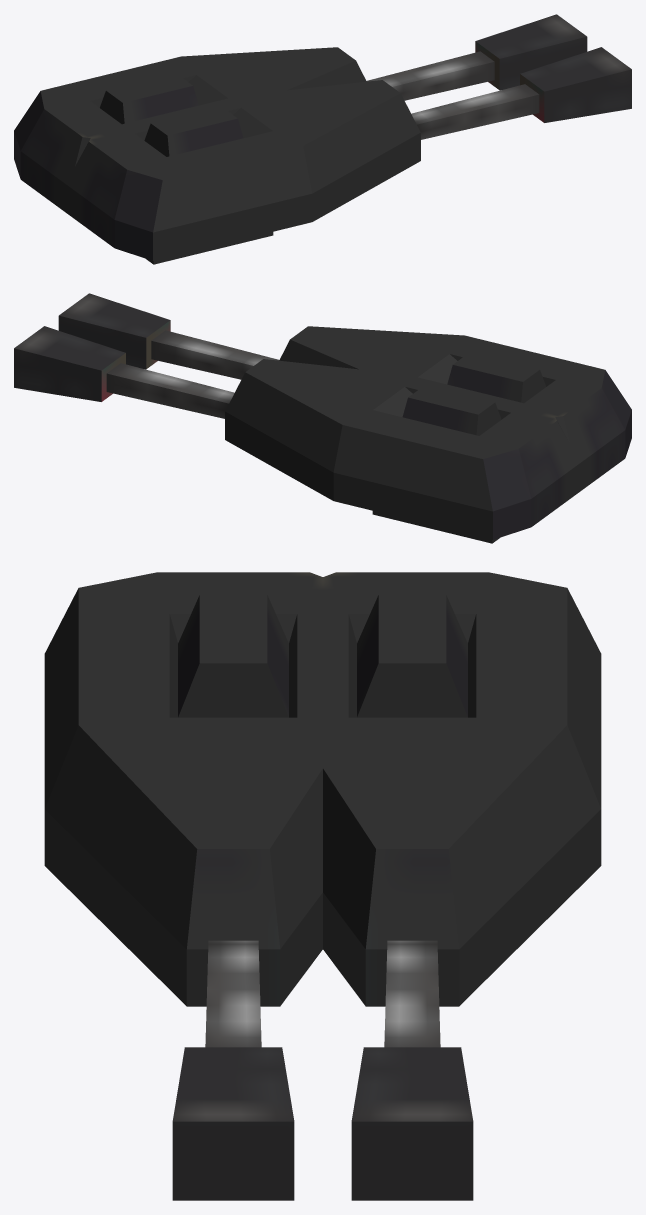
File: SM_Tower_02.fbx
3 views of the same model, one above another, from view 1: azimuth 30°, elevation 25°; view 2: azimuth 150°, elevation 25°; view 3: azimuth 270°, elevation 25° (orthographic). The views are drawn at different scales.
Visible parts, largest first — view 1: Cube.048, Cube.049; view 2: Cube.048, Cube.049; view 3: Cube.048, Cube.049.
Part boxes in pixels (x1=…): Cube.048: x1=14, y1=47, x2=420, y2=264; Cube.049: x1=366, y1=14, x2=631, y2=139; Cube.048: x1=225, y1=326, x2=631, y2=543; Cube.049: x1=14, y1=293, x2=279, y2=418; Cube.048: x1=44, y1=572, x2=601, y2=1006; Cube.049: x1=172, y1=940, x2=473, y2=1200.
Size of the model in its own units: 899 by 174 by 411.
